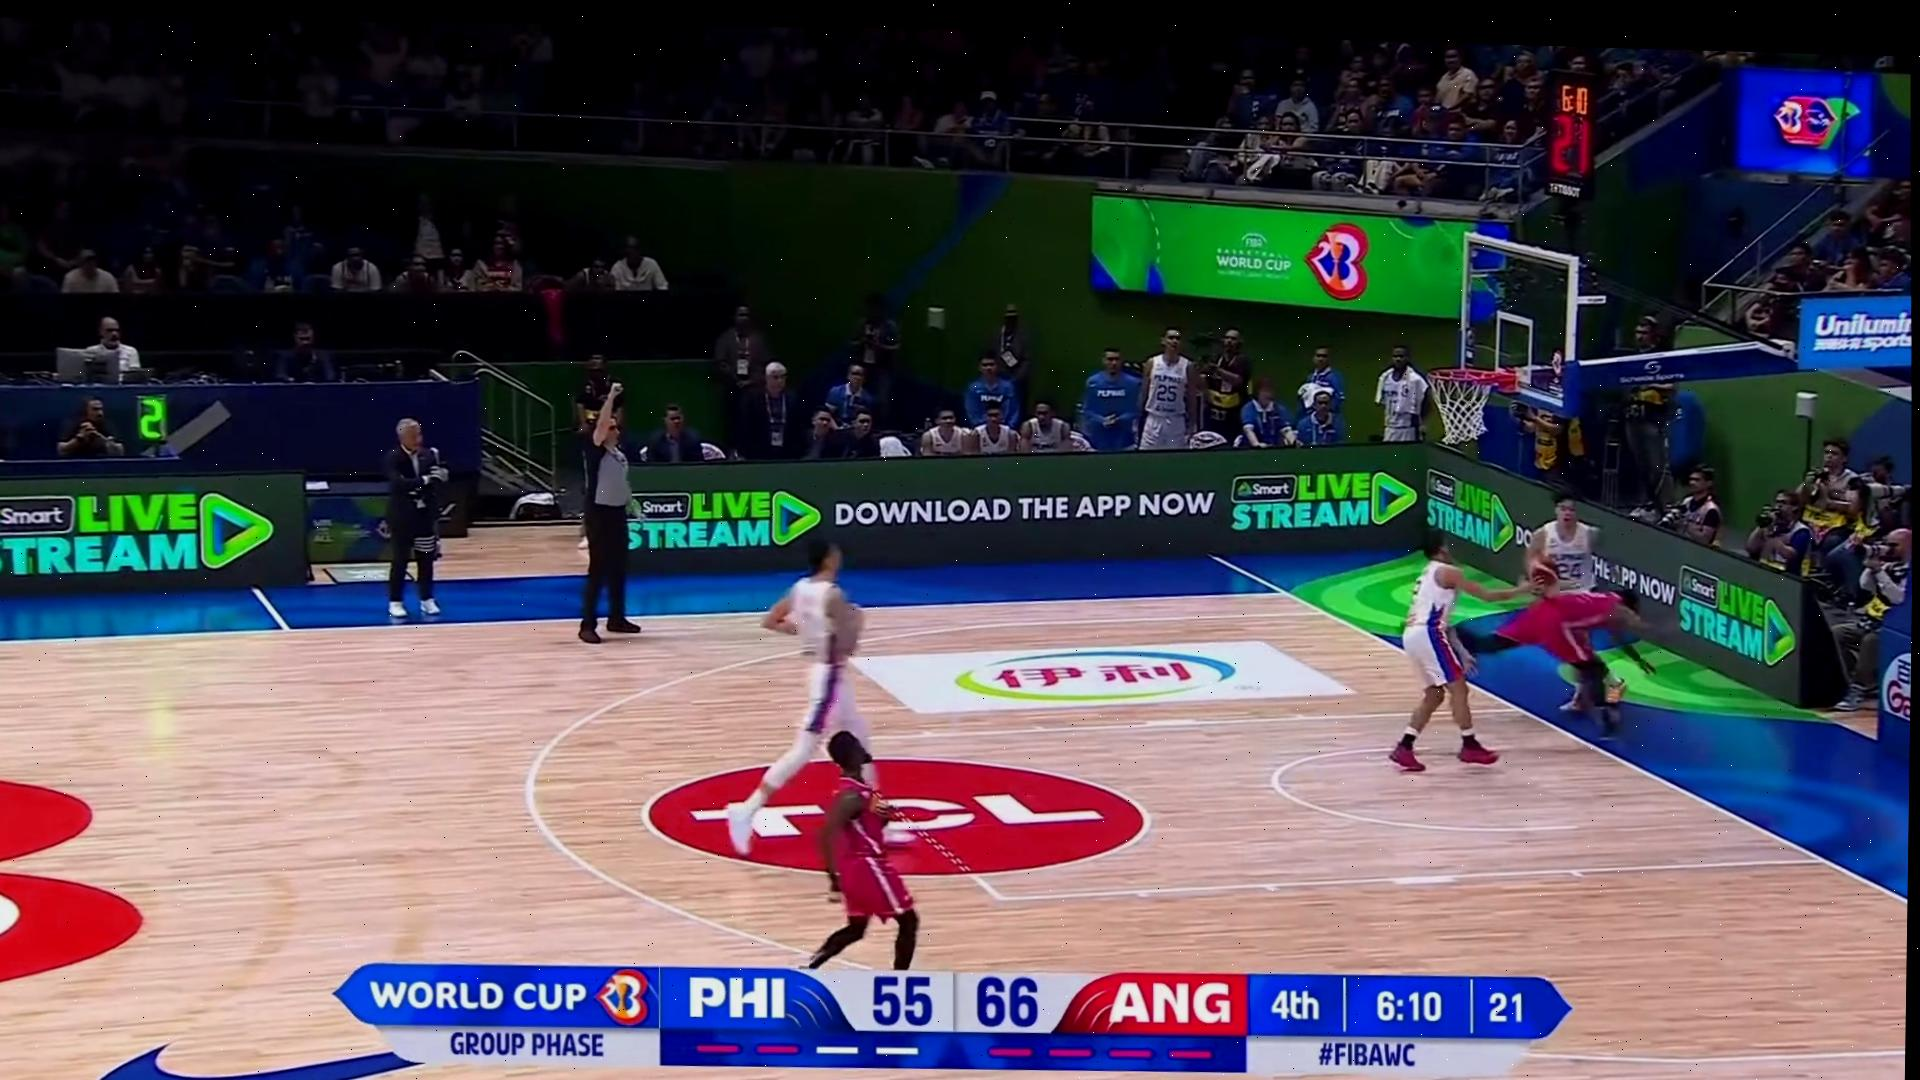foul: (1353, 520, 1636, 787)
